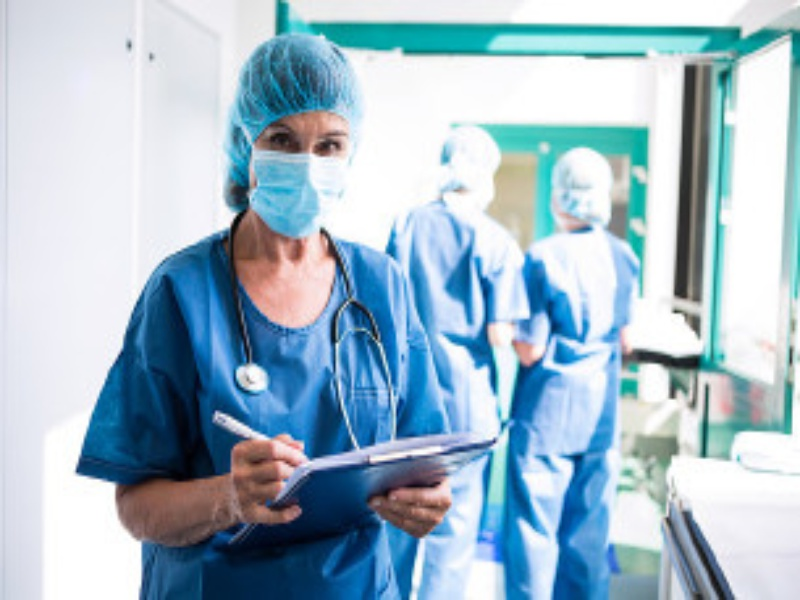mask: (218, 28, 366, 245)
